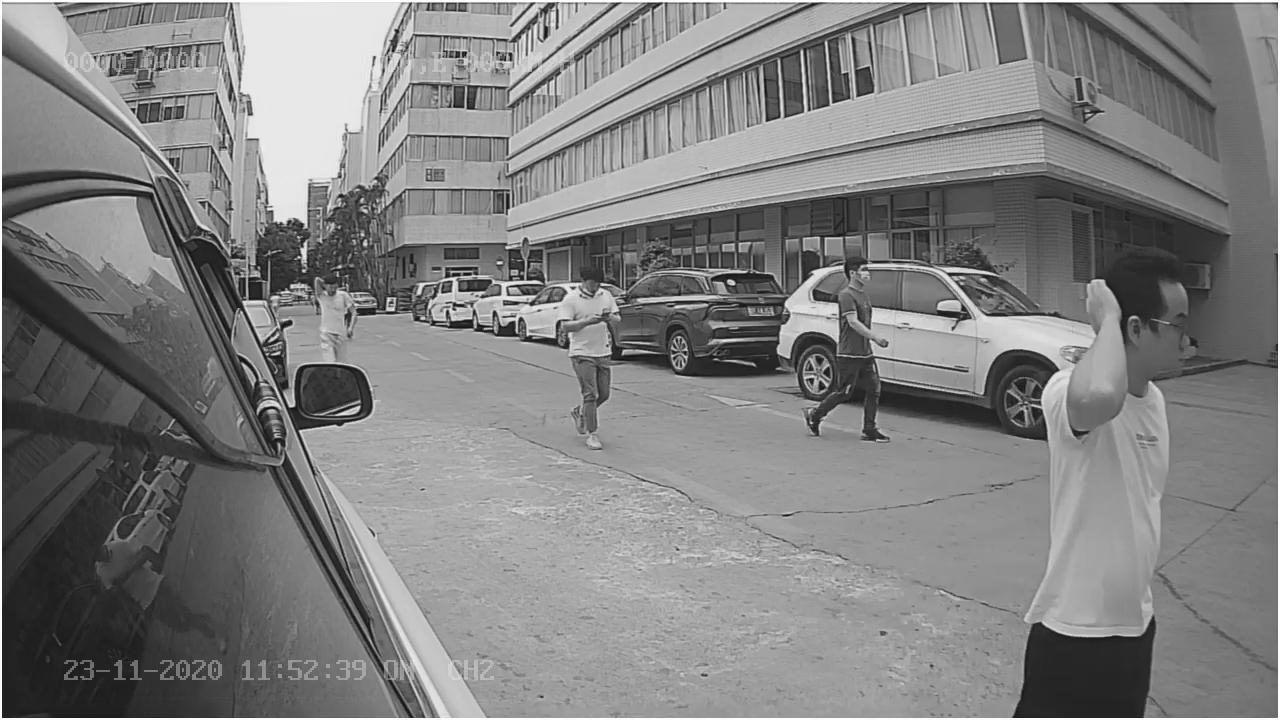person: (554, 264, 621, 445), (823, 259, 885, 444)
